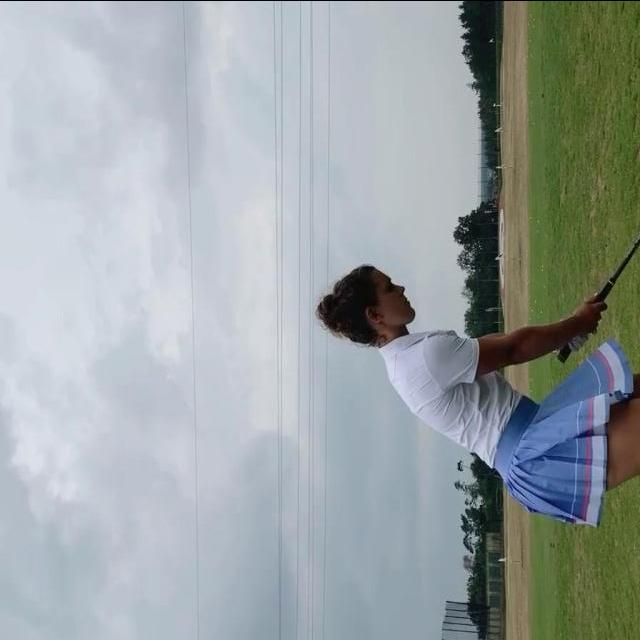ClubHandle: (556, 238, 640, 363)
